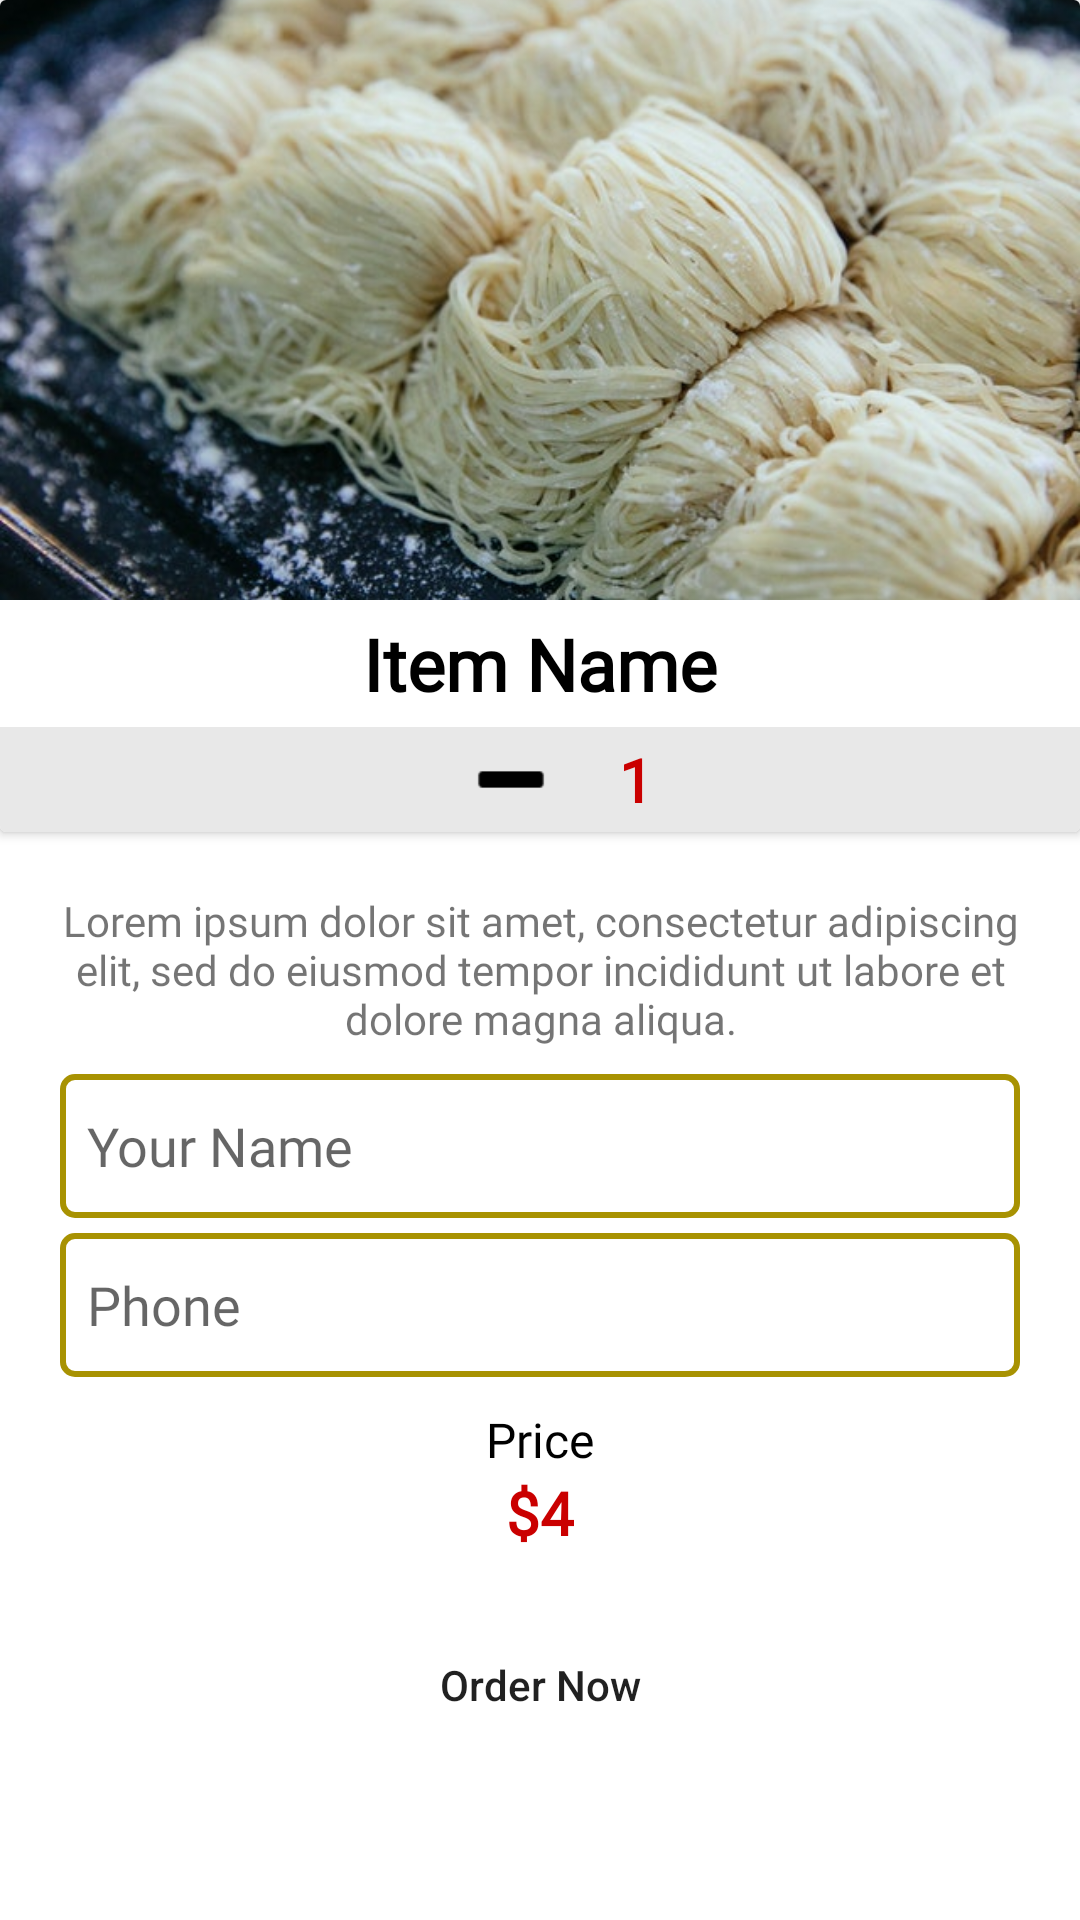

Icon click points for this 1080×1920 phone screenshot, format (x=x, y=y):
minus: (x=511, y=779)
